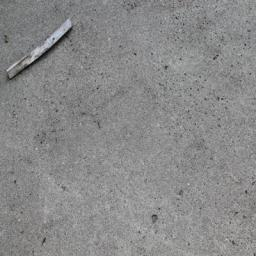FOD: (1, 16, 76, 86)
